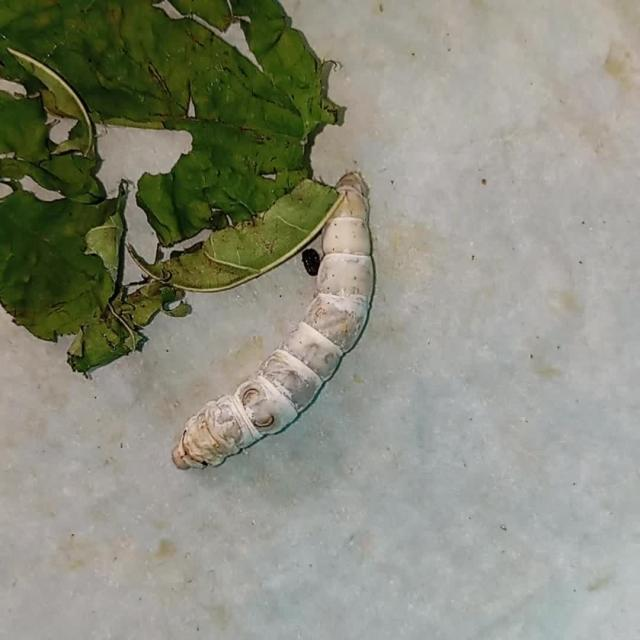Grasserie: (148, 147, 420, 489)
